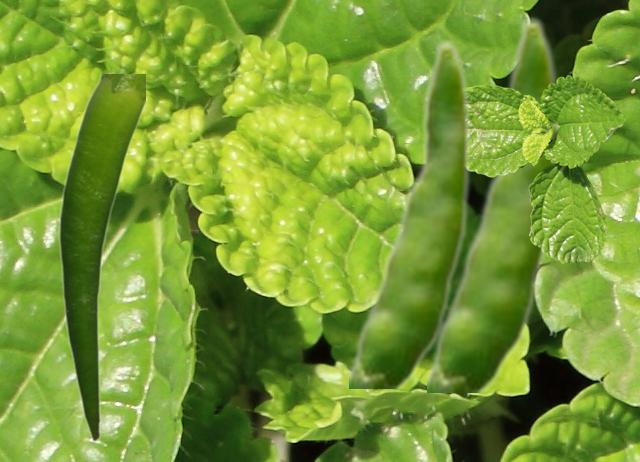green_chili: (427, 15, 558, 391), (349, 38, 471, 387), (58, 74, 144, 441)
